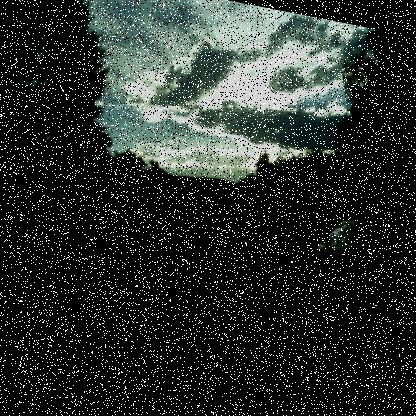Car: (314, 210, 378, 272)
